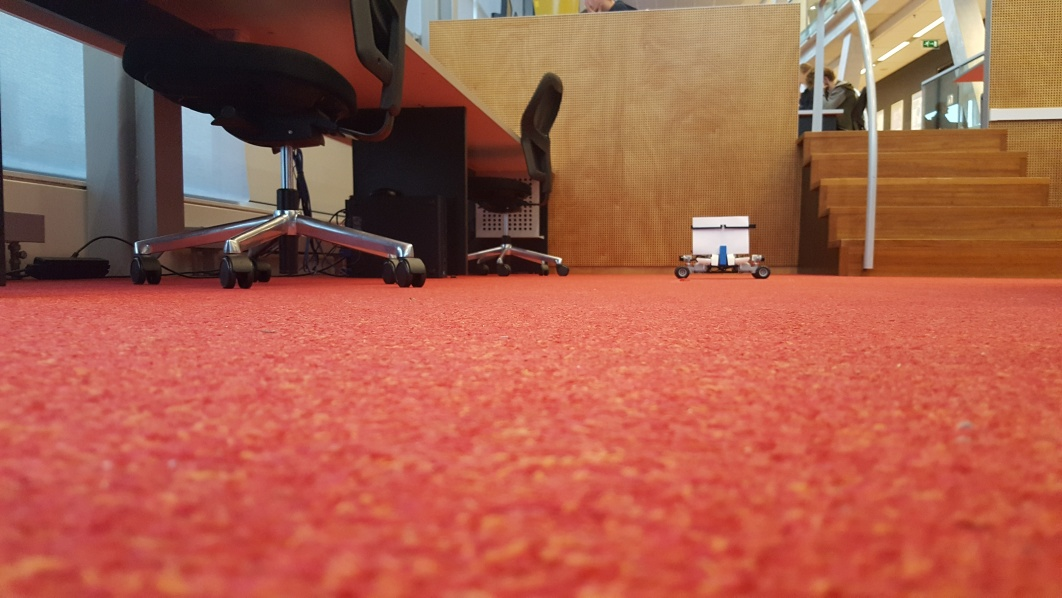car: (675, 215, 770, 286)
